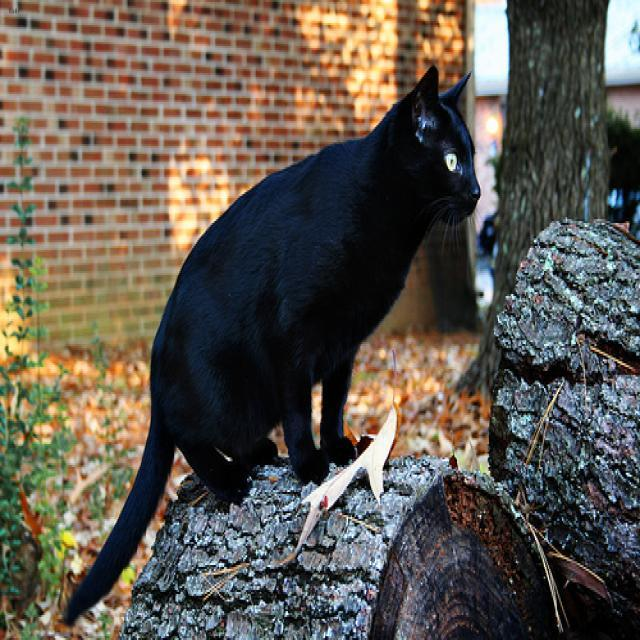Bombay: (380, 62, 488, 235)
